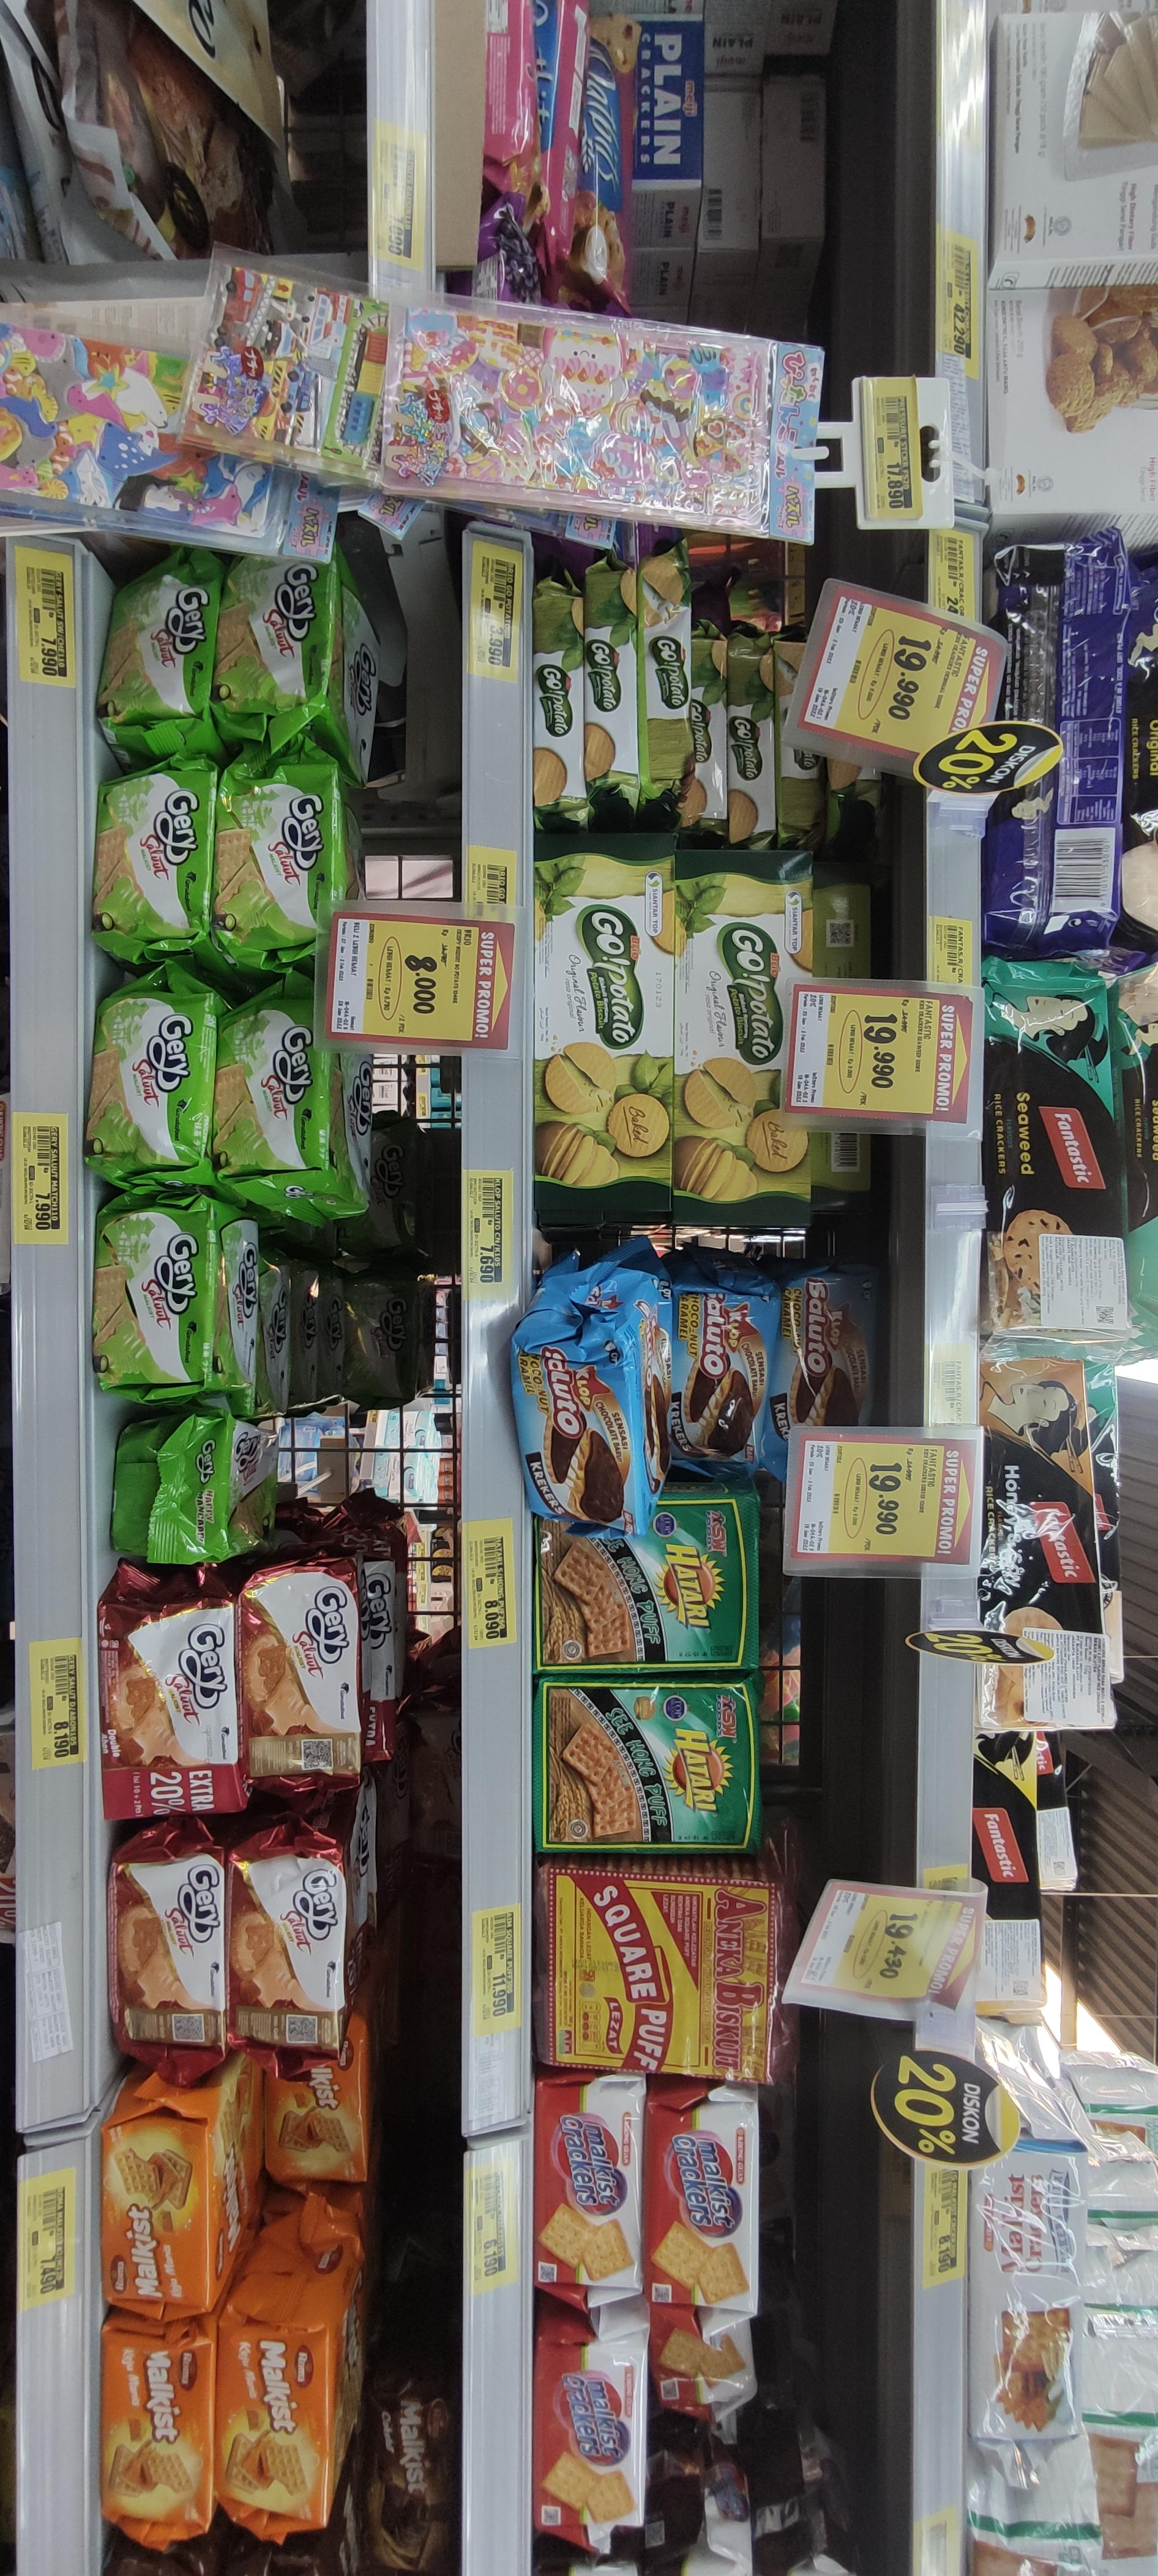90101225212100: (103, 1199, 268, 1410), (95, 986, 214, 1201), (217, 762, 338, 945), (212, 997, 332, 1181), (214, 565, 333, 749), (99, 562, 218, 746), (94, 769, 214, 951)
90101225226101: (95, 1607, 240, 1830), (230, 1569, 375, 1792), (233, 1817, 348, 2039), (115, 1837, 230, 2058)
AnekaBiskuitSquarePuff: (535, 1879, 793, 2085)
FantasticHoney&Soy: (982, 1365, 1138, 1753)
FantasticSeaweed: (982, 968, 1140, 1354)
HatariSeeHongPuff: (531, 1498, 759, 1672), (531, 1679, 757, 1853)
KlopSlutoChocoNutCaramel: (516, 1252, 665, 1551), (669, 1278, 777, 1488)
KongGuanMalkistCrackers: (646, 2093, 757, 2303), (529, 2075, 639, 2285), (531, 2311, 641, 2522)
RomaMalkistKeju: (97, 2323, 228, 2561), (103, 2090, 233, 2326), (235, 2300, 338, 2540)
SiantaTopGoPotatoOriginal: (677, 849, 825, 1222), (532, 851, 678, 1224)
